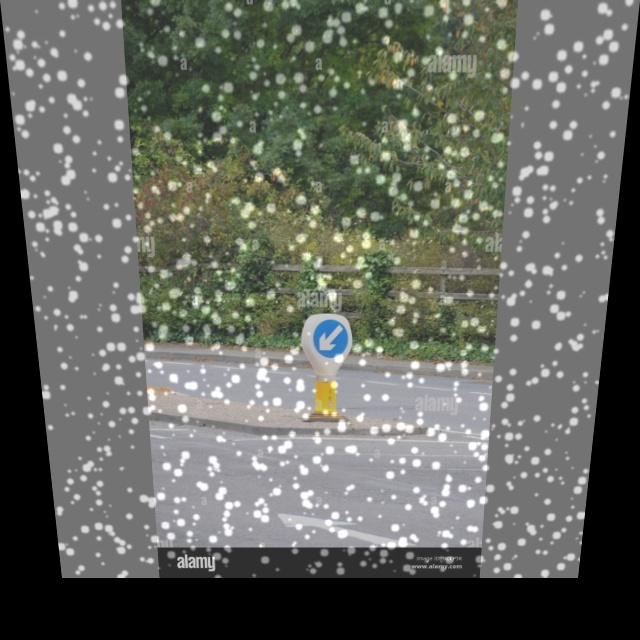Compulsory_Keep_Left: (305, 312, 357, 369)
